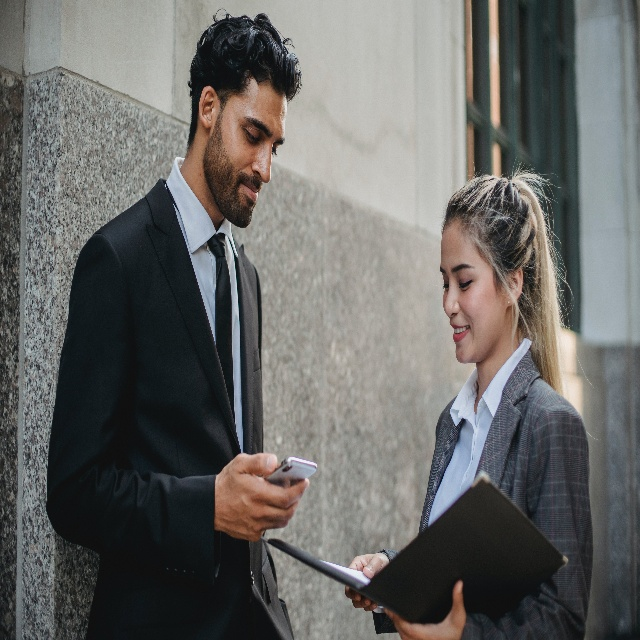Sin_guantes: (219, 453, 309, 542), (383, 579, 466, 640), (343, 552, 388, 593)
